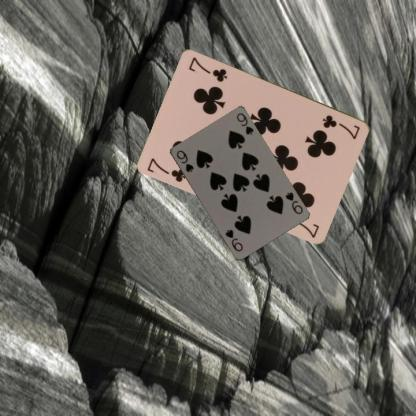7c: (145, 155, 188, 183), (320, 112, 362, 140)
9s: (282, 189, 304, 215), (174, 148, 195, 174)
